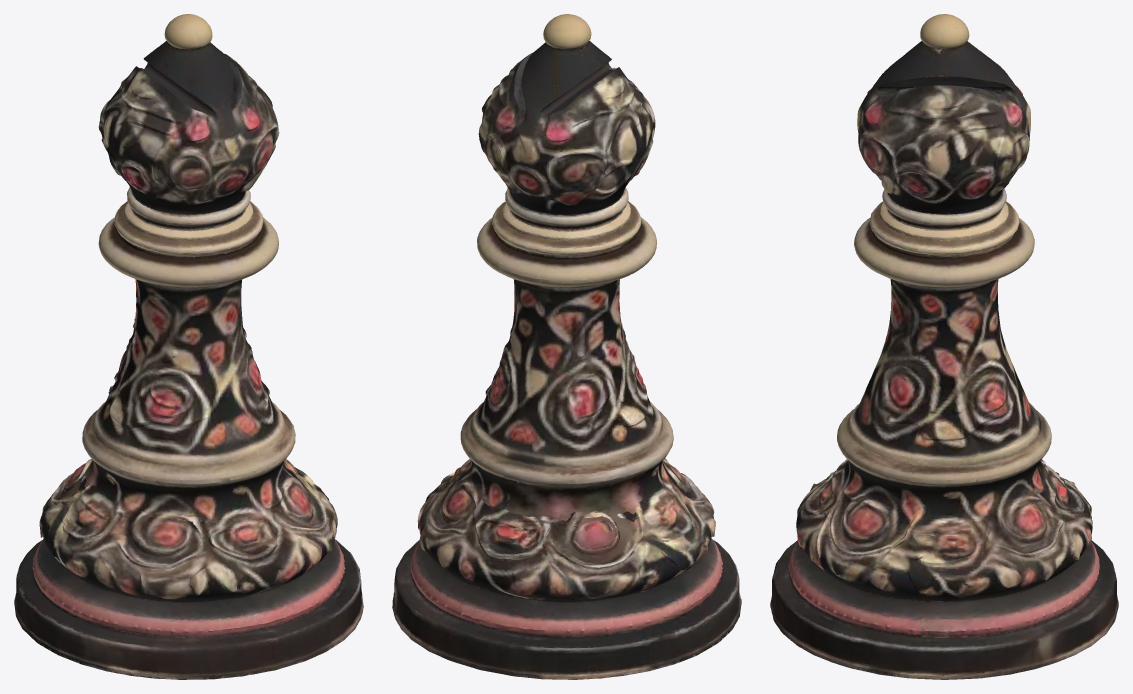
The model's file is pawn_black.glb.
3 views of the same model, side by side, from view 1: azimuth 30°, elevation 25°; view 2: azimuth 150°, elevation 25°; view 3: azimuth 270°, elevation 25° (orthographic).
Visible parts, largest first — view 1: model; view 2: model; view 3: model.
Boxes of the visible parts, x1,y1,x2,y2 form: model: [14, 14, 363, 679]; model: [392, 14, 741, 679]; model: [770, 14, 1118, 679].
Bounding box in the file's own units: 1.02 × 1.9 × 1.02.
1 material, 1 textured.
